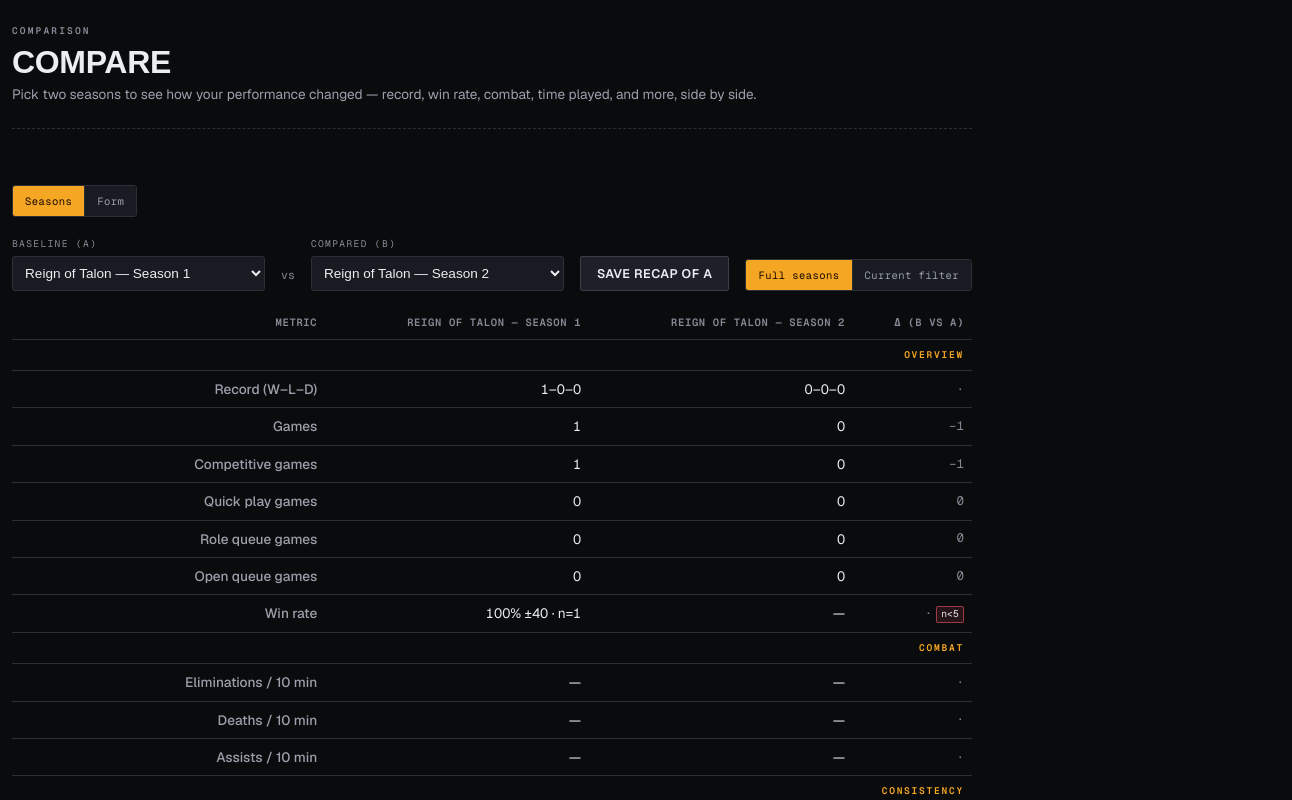
Test case: SeasonCompareView › warns instead of comparing a season against itself
The image size is (1292, 800).
Select "Reign of Talon — Season 1" in the dropdown labelled "Compared (B)": (437, 273) x1=311 y1=256 x2=564 y2=291
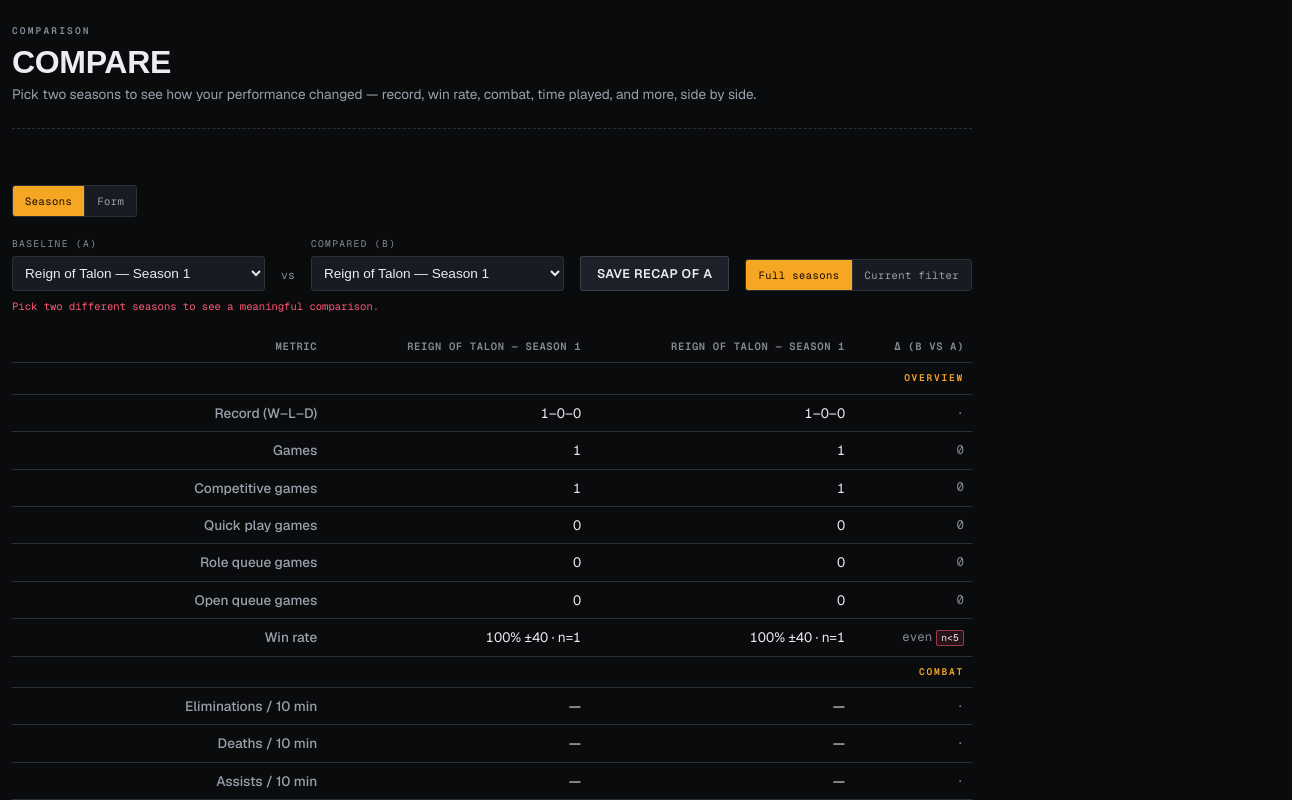
Expected: the message shows "Pick two different seasons", x1=12 y1=299 x2=379 y2=313
